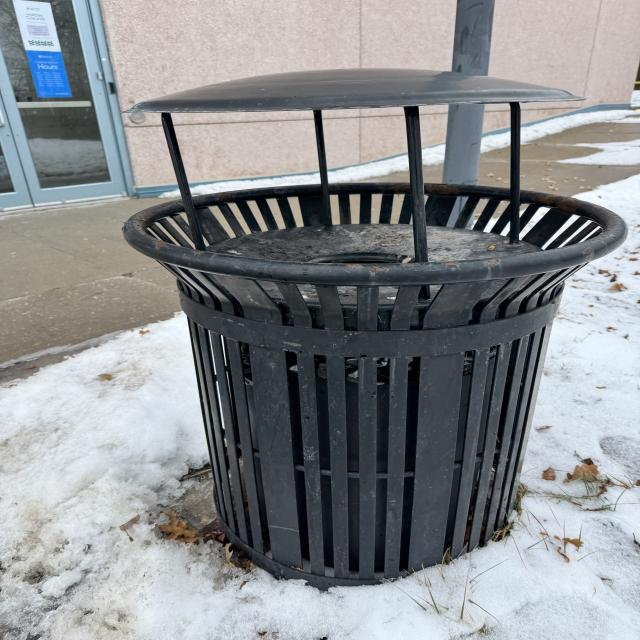Dustbin: (122, 67, 628, 586)
